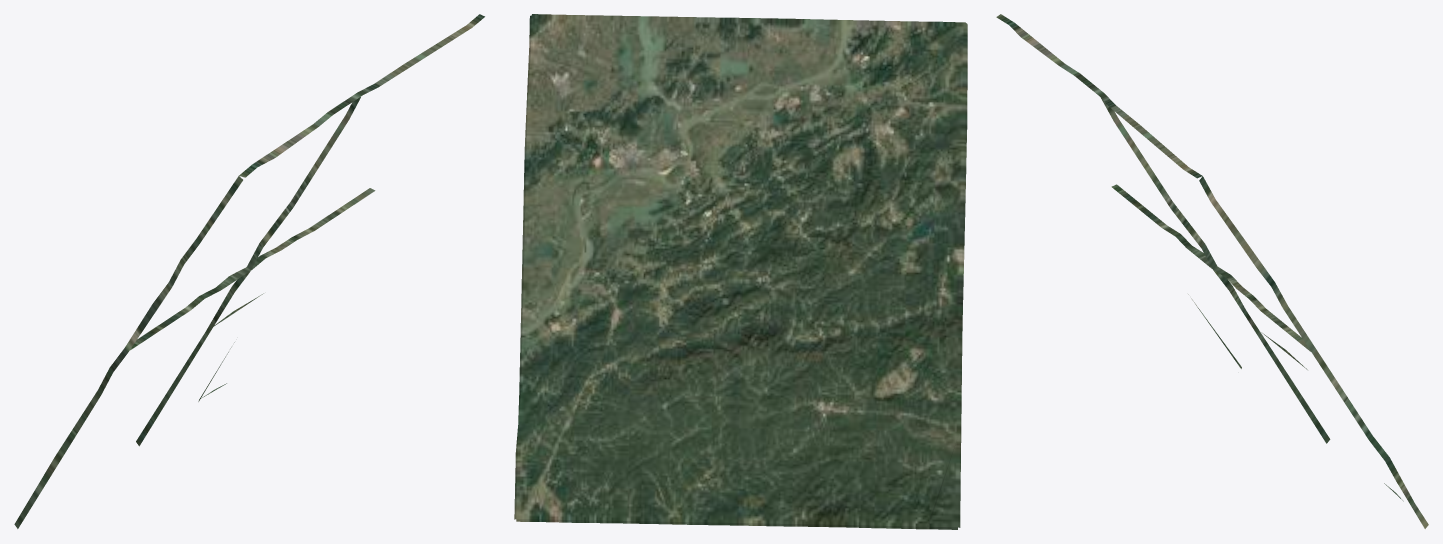
3 views of the same model, side by side, from view 1: azimuth 30°, elevation 25°; view 2: azimuth 150°, elevation 25°; view 3: azimuth 270°, elevation 25° (orthographic). The views are drawn at different scales.
Bounding box in the file's own units: 158119 × 137521 × 134284.
1 material, 1 textured.
